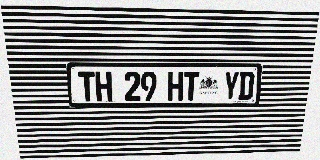2: (124, 71, 141, 101)
9: (141, 71, 157, 101)
D: (238, 71, 255, 100)
H: (95, 71, 112, 101), (168, 71, 184, 101)
T: (78, 71, 96, 101), (183, 71, 199, 100)
Y: (223, 71, 239, 100)
